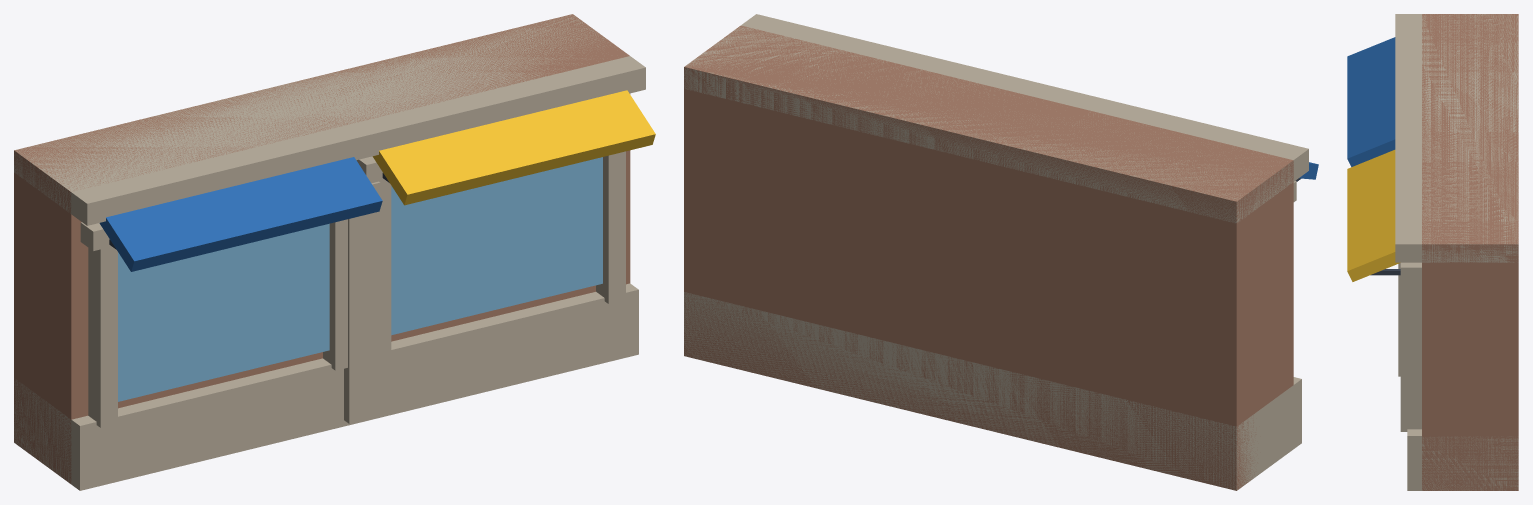
File: cittaMattoneBaseB.glb
The picture shows the model from 3 angles, left to right: view 1: azimuth 30°, elevation 25°; view 2: azimuth 150°, elevation 25°; view 3: azimuth 270°, elevation 25°; orthographic projection. The views are drawn at different scales.
Visible parts, largest first — view 1: cittaMattoneBaseB_stone, cittaMattoneBaseB_glass, cittaMattoneBaseB_cittaMattone, cittaMattoneBaseB_yellow, cittaMattoneBaseB_blue; view 2: cittaMattoneBaseB_cittaMattone, cittaMattoneBaseB_stone; view 3: cittaMattoneBaseB_cittaMattone, cittaMattoneBaseB_stone, cittaMattoneBaseB_yellow, cittaMattoneBaseB_blue.
Boxes of the visible parts, box(x1,y1,x2,y2) form: cittaMattoneBaseB_stone: box(14, 14, 645, 490); cittaMattoneBaseB_glass: box(118, 157, 602, 401); cittaMattoneBaseB_cittaMattone: box(14, 14, 630, 483); cittaMattoneBaseB_yellow: box(372, 90, 655, 205); cittaMattoneBaseB_blue: box(99, 157, 382, 271); cittaMattoneBaseB_cittaMattone: box(684, 26, 1293, 490); cittaMattoneBaseB_stone: box(684, 14, 1308, 490); cittaMattoneBaseB_cittaMattone: box(1422, 14, 1518, 490); cittaMattoneBaseB_stone: box(1395, 14, 1518, 490); cittaMattoneBaseB_yellow: box(1347, 150, 1400, 281); cittaMattoneBaseB_blue: box(1347, 37, 1395, 166).
Bounding box in the file's own units: 9 × 4.5 × 2.84.
